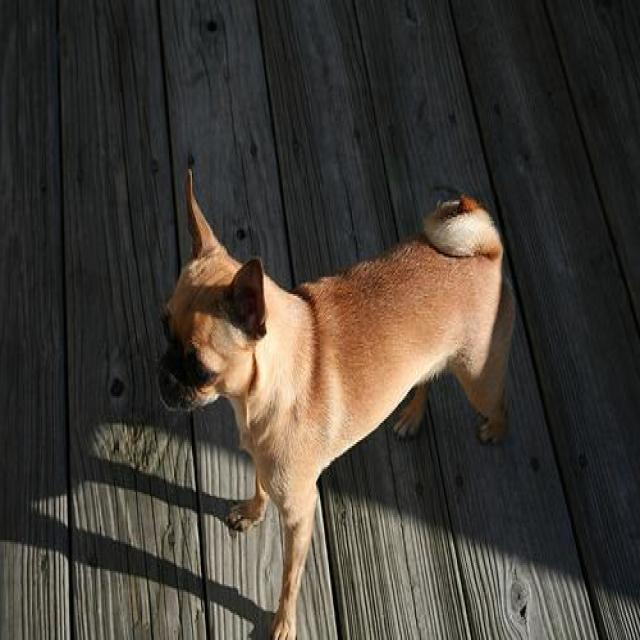chihuahua: (153, 167, 518, 638)
